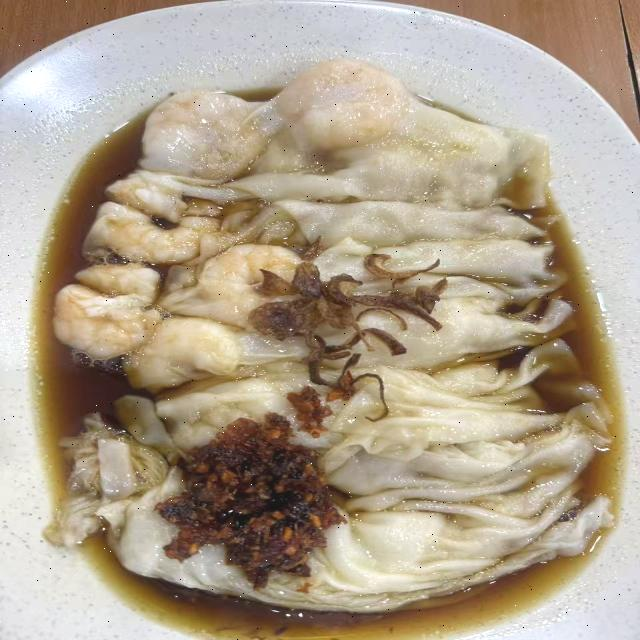Chee Cheong Fun: (41, 35, 632, 626)
